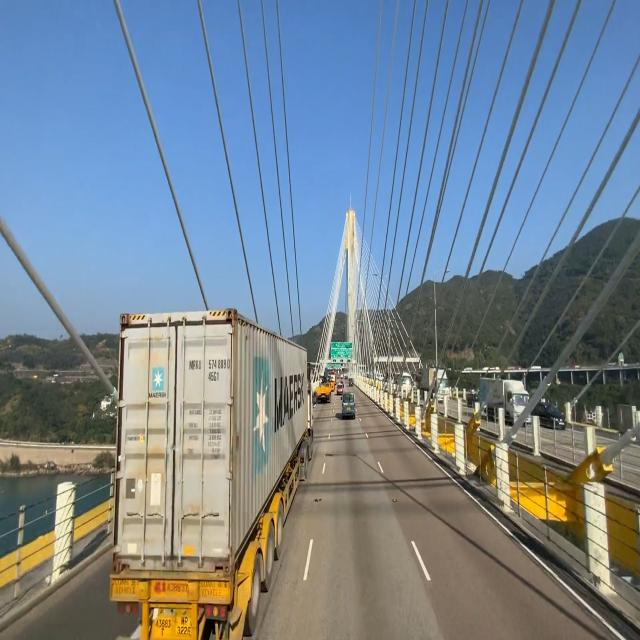Car: (122, 311, 314, 637), (339, 387, 358, 422)
